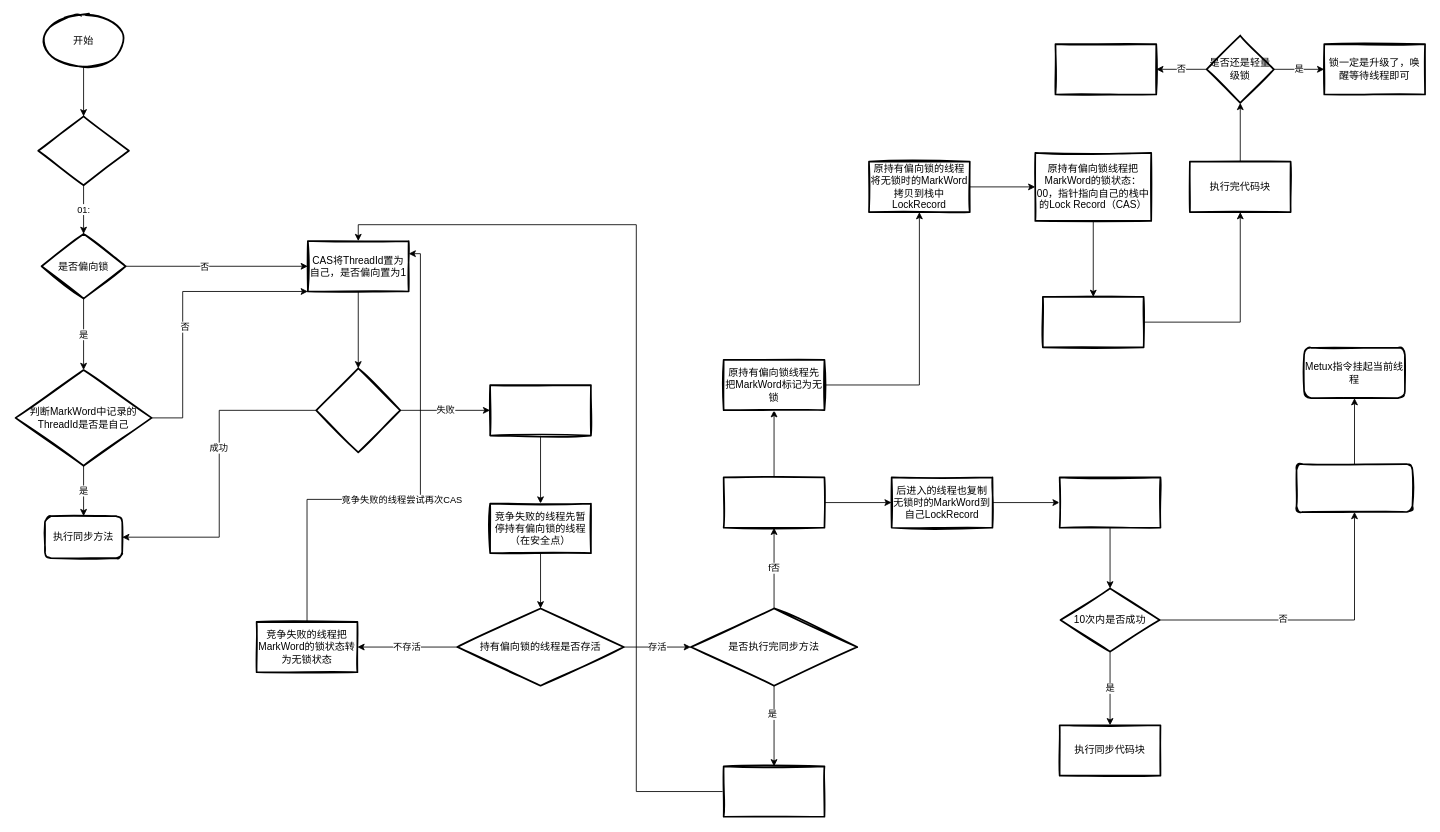
The diagram is 1440 pixels wide and 832 high, and some of its shapes have lost their labels. Each missing label, with the box of its shape:
MarkWord转为无锁状态（原持有偏向锁线程）: (722, 765, 825, 817)
升级为轻量级锁: (722, 476, 825, 528)
升级锁为重量级锁，锁状态：10.指针指向重量级锁Monitor指针: (1295, 463, 1413, 512)
原持有偏向锁的线程继续执行同步方法块内容: (1042, 296, 1144, 348)
将LockRecord的MarkWord替换堆中的MarkWor: (1054, 43, 1157, 95)
循环CAS替换MarkWord中的LockRecord指针和锁状态: (1058, 476, 1161, 528)
执行偏向撤销逻辑: (489, 384, 591, 436)
是否成功: (315, 367, 401, 453)
锁状态: (37, 115, 129, 186)
